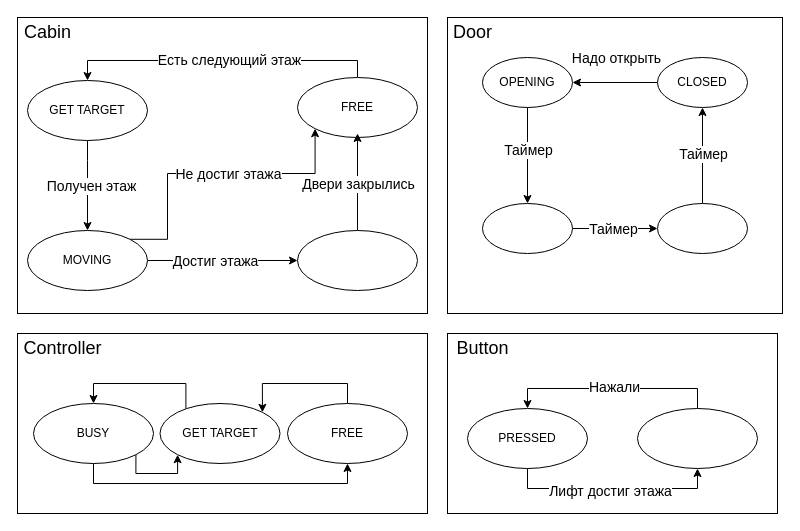
Some shapes in this 800 by 531 pixel diagram are drawn without their labels. Here are the shapes that lost their labels. From the top down, the box of each, then its label:
(482, 202, 572, 254): OPENED
(656, 202, 748, 254): CLOSING
(296, 230, 418, 290): WAITING DOORS
(636, 408, 758, 468): UNPRESSED
